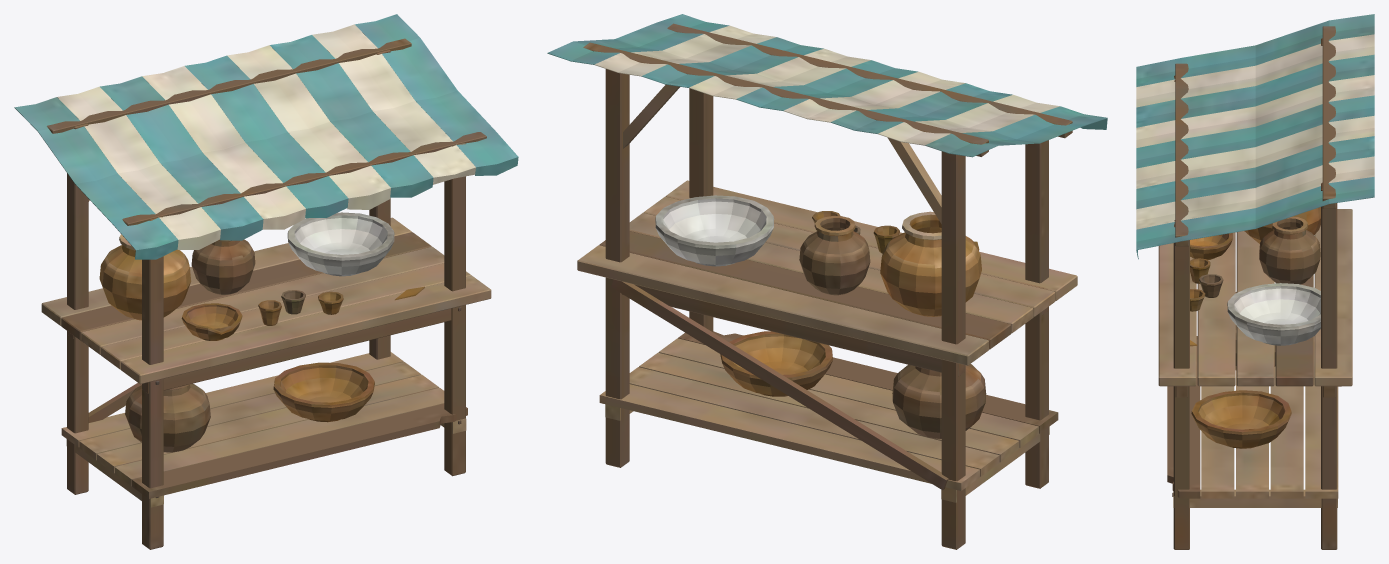
The model's file is W29_pottery_stall.glb.
The picture shows the model from 3 angles, left to right: view 1: azimuth 30°, elevation 25°; view 2: azimuth 150°, elevation 25°; view 3: azimuth 270°, elevation 25°; orthographic projection. The views are drawn at different scales.
Parts seen in each view (by area): view 1: Upright; view 2: Upright; view 3: Upright.
Boxes of the visible parts, x1,y1,x2,y2 form: Upright: (14,14,518,549); Upright: (547,14,1107,549); Upright: (1136,14,1374,549).
Size of the model in its own units: 2 by 1.88 by 1.1.
9 materials, 9 textured.
